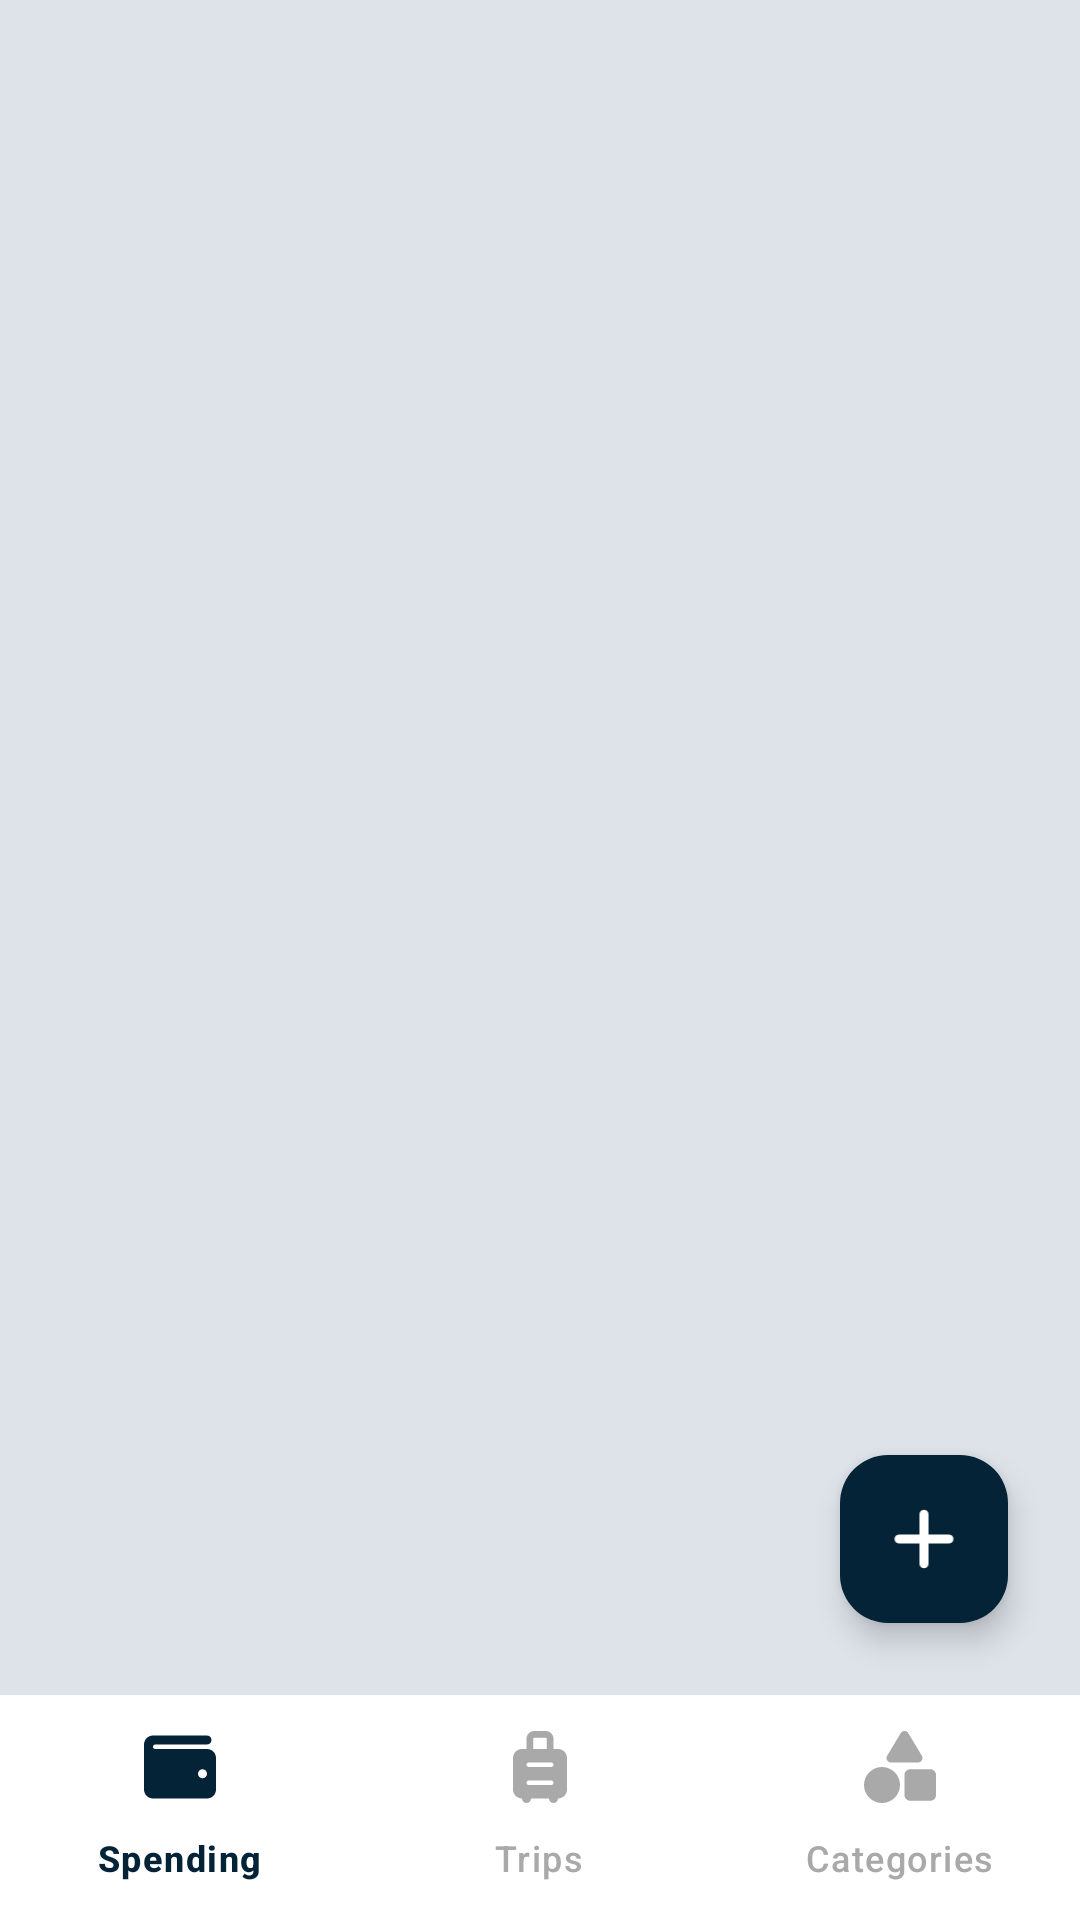

Icon bounding boxes for this 1080 × 1920 phone screenshot, format (x1, y1, x2, y2):
plus: (840, 1455, 1008, 1623)
